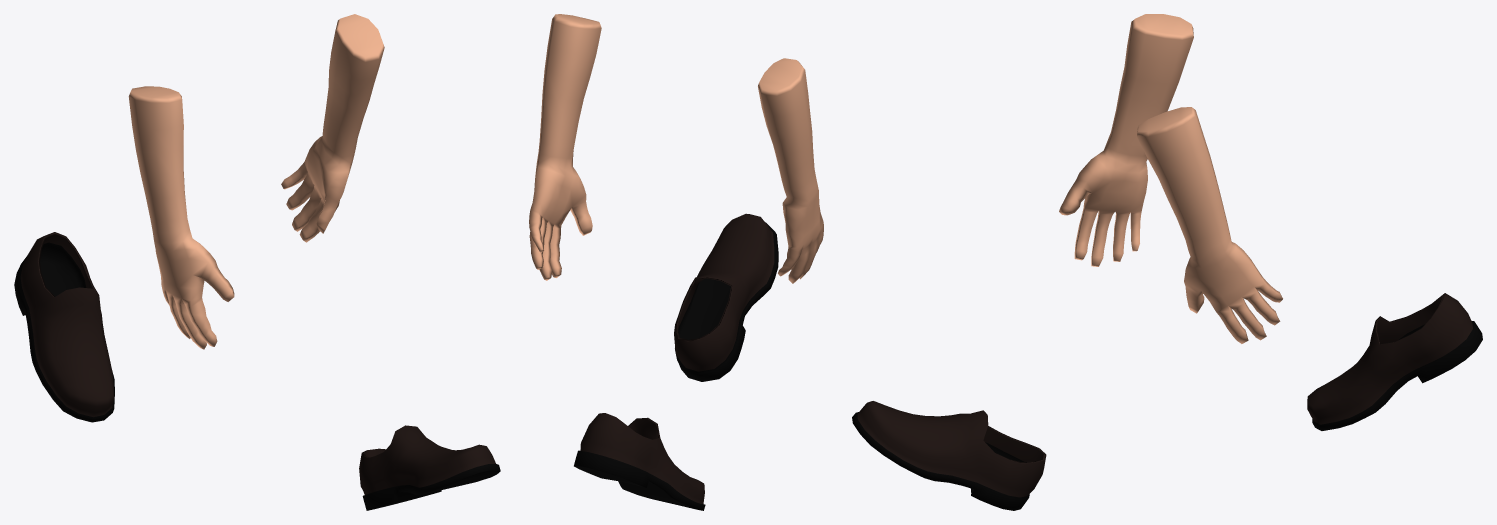
The model's file is walkingPlayer.obj.
3 views of the same model, side by side, from view 1: azimuth 30°, elevation 25°; view 2: azimuth 150°, elevation 25°; view 3: azimuth 270°, elevation 25° (orthographic). The views are drawn at different scales.
Visible parts, largest first — view 1: polySurface1 MensBusinessShoes:shoeR1, hand_basemesh4, AnatomyHandHumanMale:hand_basemesh, MensBusinessShoes:shoeR1 polySurface2; view 2: AnatomyHandHumanMale:hand_basemesh, MensBusinessShoes:shoeR1 polySurface2, hand_basemesh4, polySurface1 MensBusinessShoes:shoeR1; view 3: hand_basemesh4, AnatomyHandHumanMale:hand_basemesh, MensBusinessShoes:shoeR1 polySurface2, polySurface1 MensBusinessShoes:shoeR1.
Part boxes in pixels (<box>): polySurface1 MensBusinessShoes:shoeR1: <box>14,232,114,422</box>; hand_basemesh4: <box>128,86,234,349</box>; AnatomyHandHumanMale:hand_basemesh: <box>281,14,384,242</box>; MensBusinessShoes:shoeR1 polySurface2: <box>359,425,500,510</box>; AnatomyHandHumanMale:hand_basemesh: <box>529,14,601,280</box>; MensBusinessShoes:shoeR1 polySurface2: <box>674,213,778,381</box>; hand_basemesh4: <box>758,58,823,283</box>; polySurface1 MensBusinessShoes:shoeR1: <box>574,413,705,510</box>; hand_basemesh4: <box>1059,14,1193,266</box>; AnatomyHandHumanMale:hand_basemesh: <box>1137,107,1282,343</box>; MensBusinessShoes:shoeR1 polySurface2: <box>852,401,1046,510</box>; polySurface1 MensBusinessShoes:shoeR1: <box>1307,293,1482,430</box>.
Bounding box in the file's own units: 44.96 × 72.91 × 99.21.
